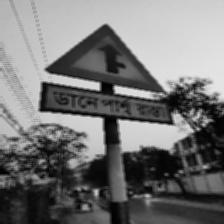Side-road-right: (41, 22, 170, 124)
